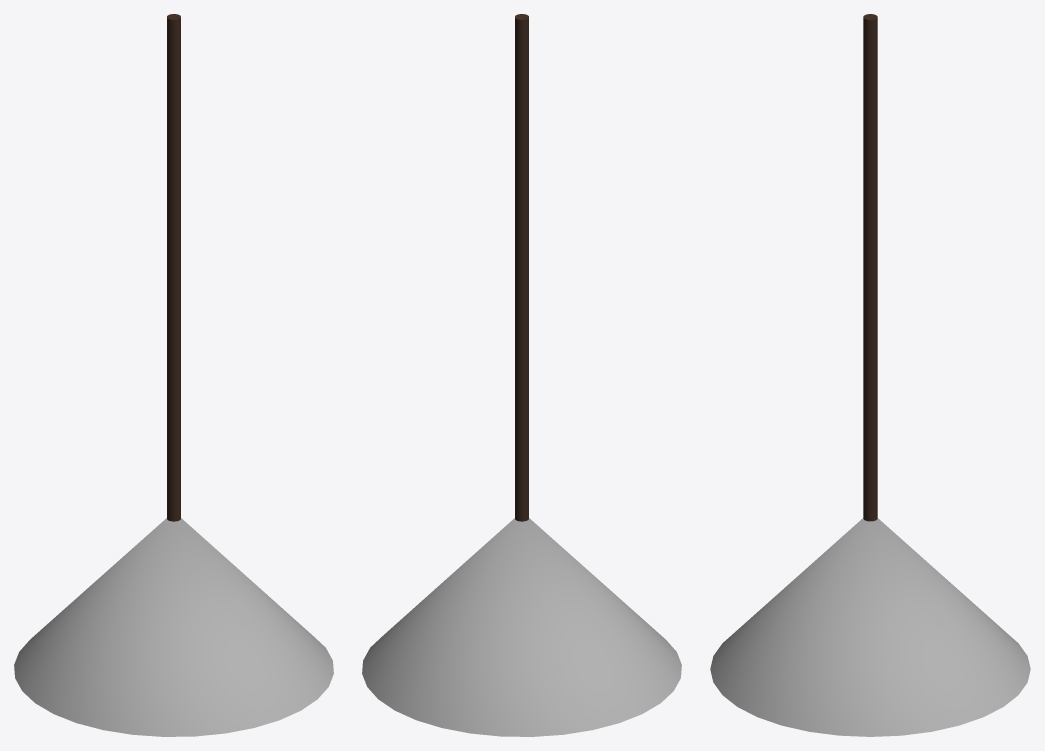
File: lamp_mm.glb
3 renders of one model, left to right at view 1: azimuth 30°, elevation 25°; view 2: azimuth 150°, elevation 25°; view 3: azimuth 270°, elevation 25°, orthographic.
Parts seen in each view (by area): view 1: Sphere; view 2: Sphere; view 3: Sphere.
Boxes of the visible parts, left/top/right/bottom form: Sphere: left=14, top=14, right=333, bottom=736; Sphere: left=362, top=14, right=681, bottom=736; Sphere: left=710, top=14, right=1030, bottom=736.
Bounding box in the file's own units: 0.2804 × 0.6295 × 0.2804.
